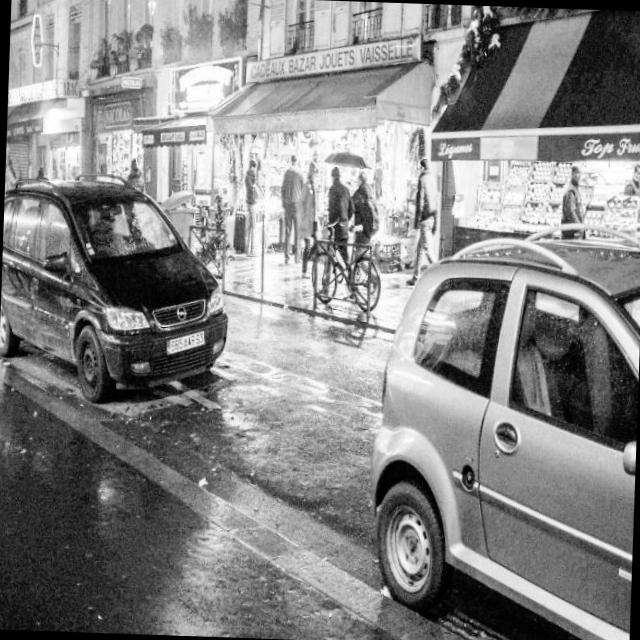Bicycle: (304, 254, 384, 319)
Car: (371, 228, 640, 638), (0, 159, 239, 431)
Person: (276, 130, 320, 276), (248, 137, 290, 252), (548, 152, 598, 247), (346, 160, 386, 262), (318, 150, 353, 260)
